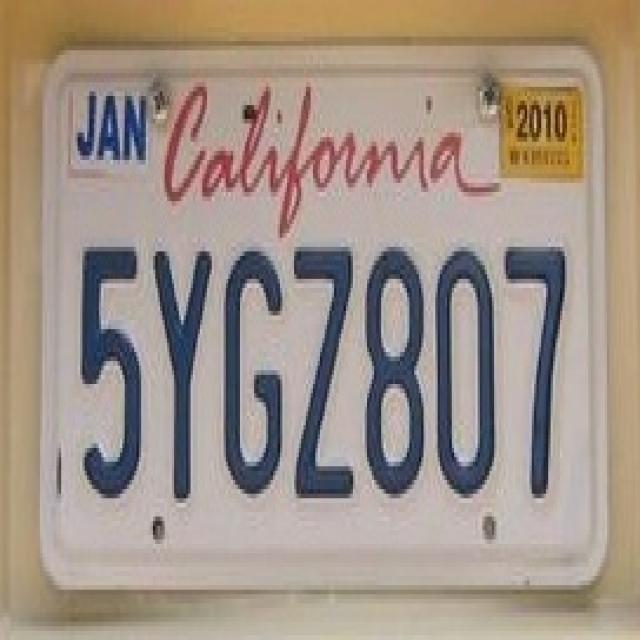LicensePlate: (32, 19, 617, 613)
